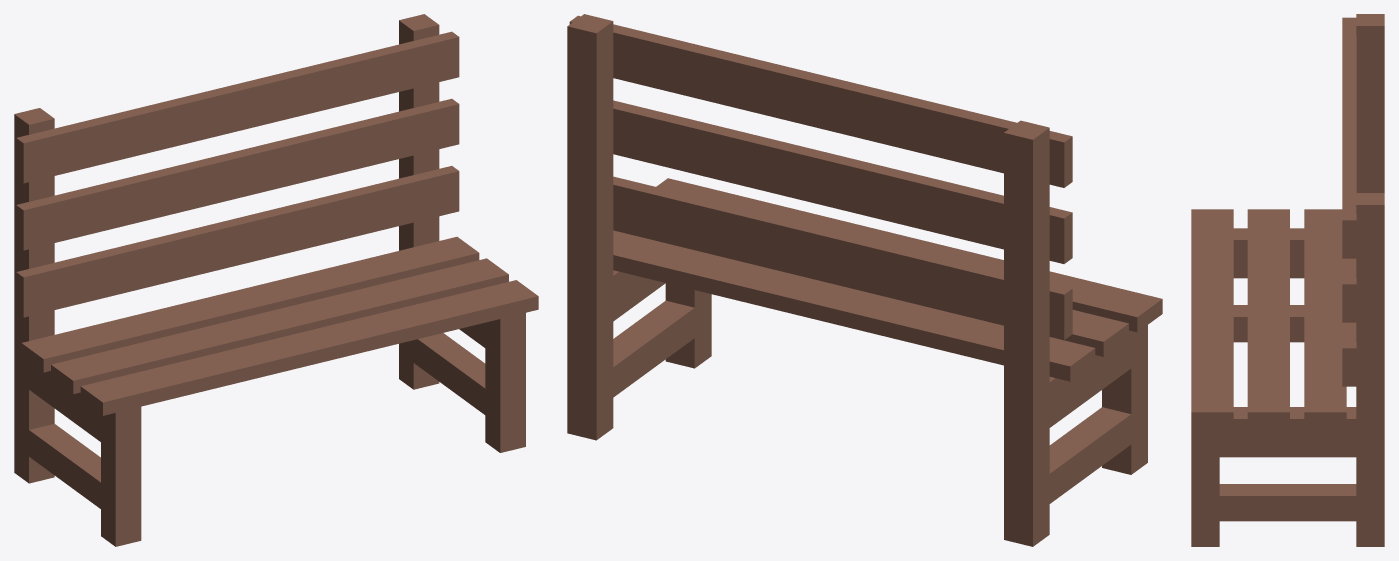
The model's file is Bench_v1.fbx.
3 views of the same model, side by side, from view 1: azimuth 30°, elevation 25°; view 2: azimuth 150°, elevation 25°; view 3: azimuth 270°, elevation 25° (orthographic). The views are drawn at different scales.
Parts seen in each view (by area): view 1: Bench; view 2: Bench; view 3: Bench.
Boxes of the visible parts, box(x1,y1,x2,y2) form: Bench: box(14, 14, 538, 546); Bench: box(567, 14, 1162, 546); Bench: box(1191, 14, 1384, 546).
Size of the model in its own units: 153 by 120 by 61.65.
